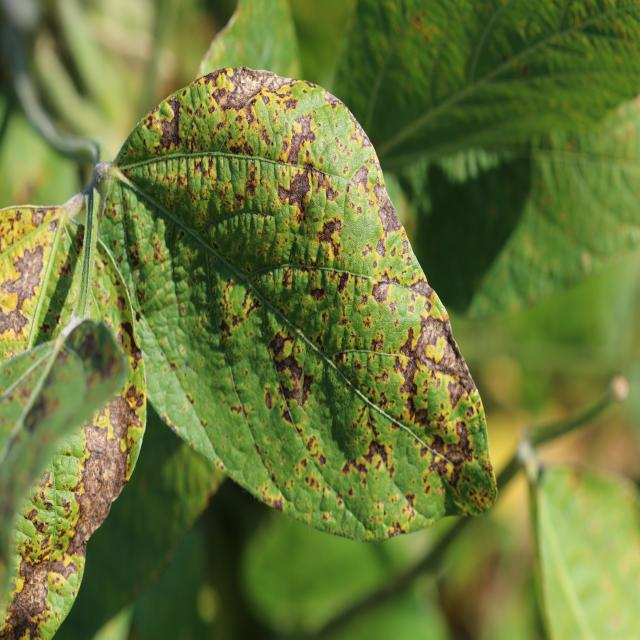Bacterial_Blight: (404, 295, 476, 423), (70, 404, 133, 541), (274, 158, 337, 236), (0, 237, 50, 332), (2, 562, 54, 637), (370, 182, 412, 259), (269, 327, 307, 408), (213, 69, 272, 114), (0, 211, 47, 259), (285, 119, 320, 167), (104, 396, 135, 448), (357, 436, 392, 476), (47, 557, 78, 585), (158, 113, 180, 151), (18, 554, 48, 581), (118, 320, 141, 355), (304, 435, 327, 465), (125, 384, 144, 409), (150, 235, 166, 262), (335, 272, 350, 293), (370, 332, 385, 353), (277, 183, 291, 205), (218, 318, 232, 339), (310, 285, 326, 302), (34, 518, 50, 535), (115, 295, 126, 312), (264, 390, 273, 409), (388, 300, 398, 314)
Soybean: (101, 68, 497, 541)
